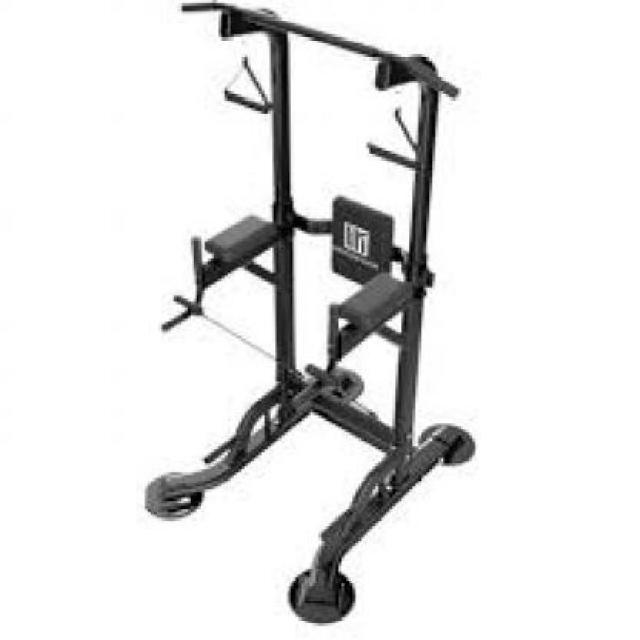chinning dipping: (146, 3, 477, 623)
